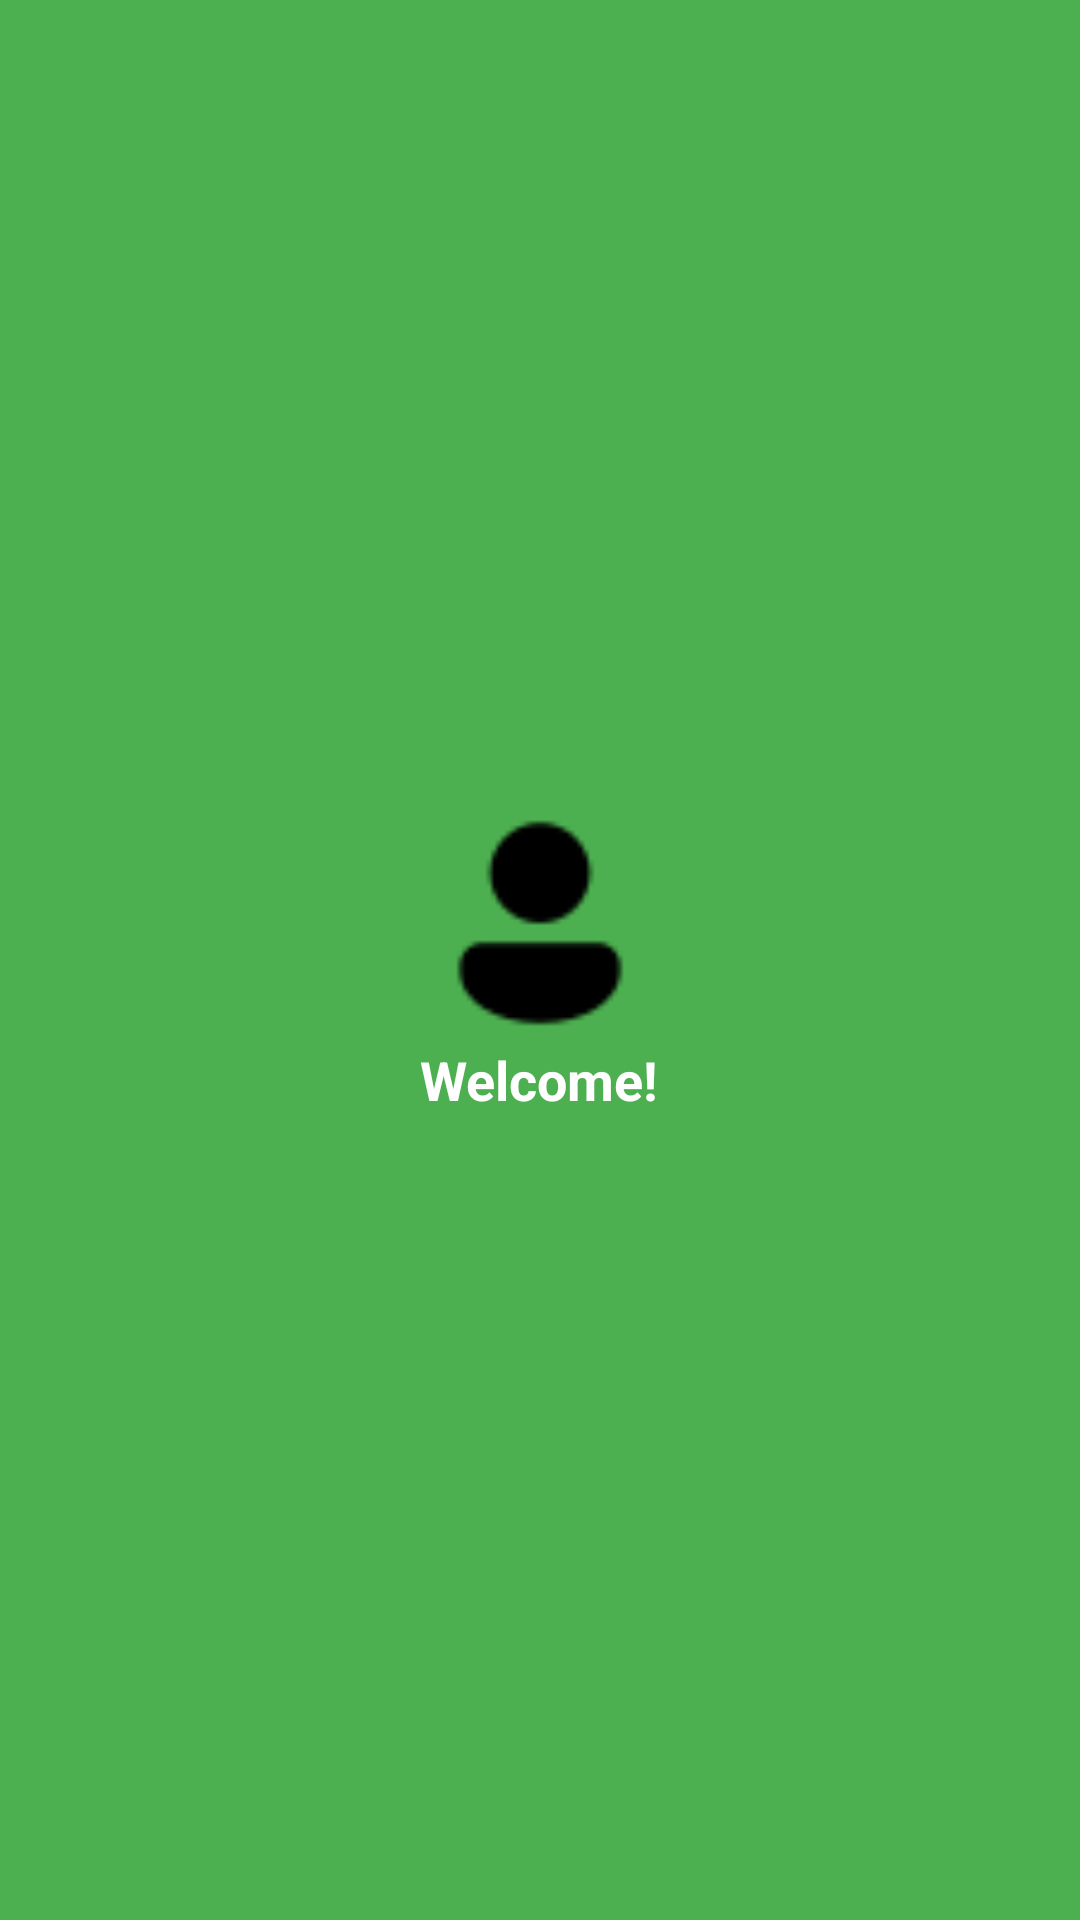

Icons on this 1080px x 1920px Android screen, each with its box as (x1, y1, x2, y2):
Profile Icon: (457, 821, 623, 1025)
